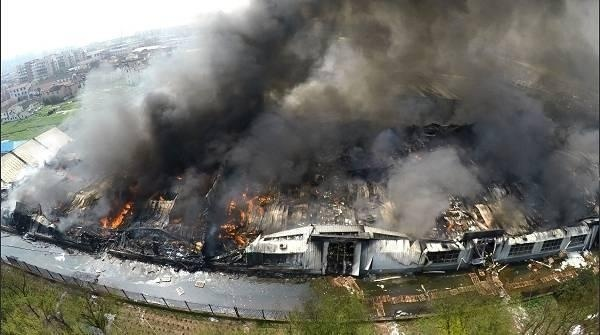fire: (221, 189, 270, 241), (101, 199, 132, 228)
